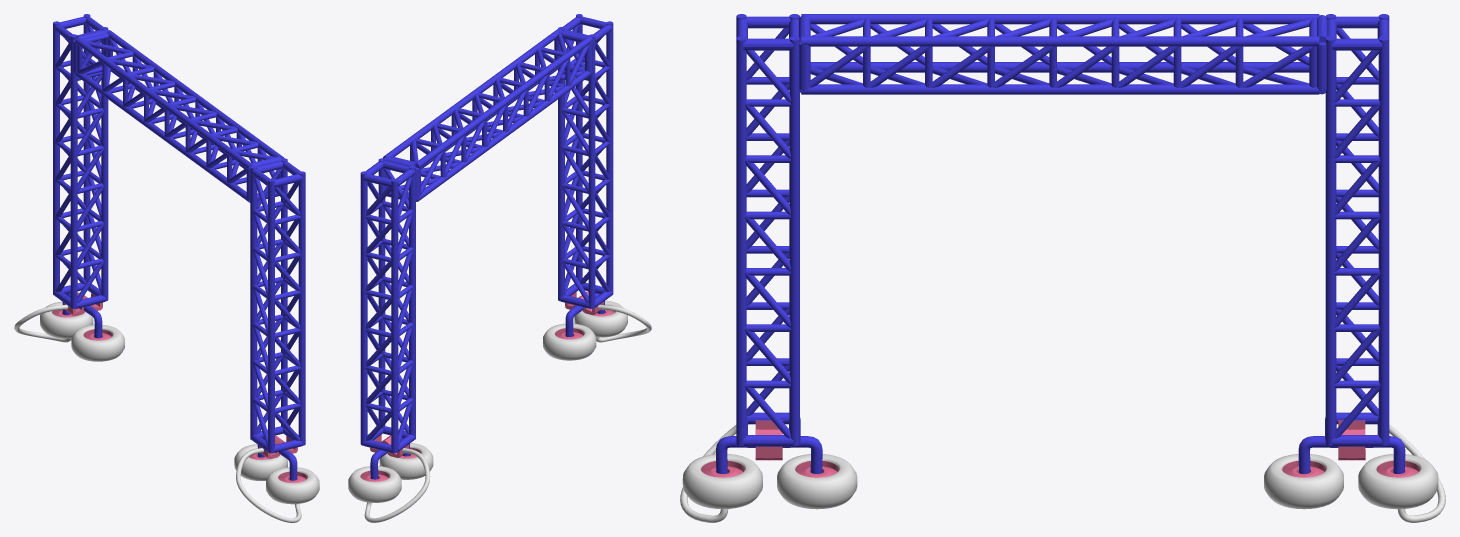
File: Geo_wallFrame.fbx
3 renders of one model, left to right at view 1: azimuth 30°, elevation 25°; view 2: azimuth 150°, elevation 25°; view 3: azimuth 270°, elevation 25°, orthographic. The views are drawn at different scales.
Parts seen in each view (by area): view 1: Cylinder.002, Cylinder.004, BezierCurve_Plate, BezierCurve; view 2: Cylinder.002, Cylinder.004, BezierCurve_Plate, BezierCurve; view 3: Cylinder.002, Cylinder.004, BezierCurve_Plate, BezierCurve.
Part boxes in pixels (x1=…): Cylinder.002: x1=53, y1=14, x2=305, y2=453; Cylinder.004: x1=73, y1=29, x2=284, y2=202; BezierCurve_Plate: x1=40, y1=292, x2=319, y2=504; BezierCurve: x1=14, y1=304, x2=301, y2=522; Cylinder.002: x1=360, y1=14, x2=613, y2=453; Cylinder.004: x1=383, y1=29, x2=592, y2=201; BezierCurve_Plate: x1=348, y1=291, x2=627, y2=502; BezierCurve: x1=364, y1=304, x2=651, y2=522; Cylinder.002: x1=736, y1=14, x2=1389, y2=446; Cylinder.004: x1=799, y1=14, x2=1327, y2=94; BezierCurve_Plate: x1=682, y1=420, x2=1438, y2=509; BezierCurve: x1=680, y1=424, x2=1445, y2=522.
Size of the model in its own units: 147 by 627 by 877.
